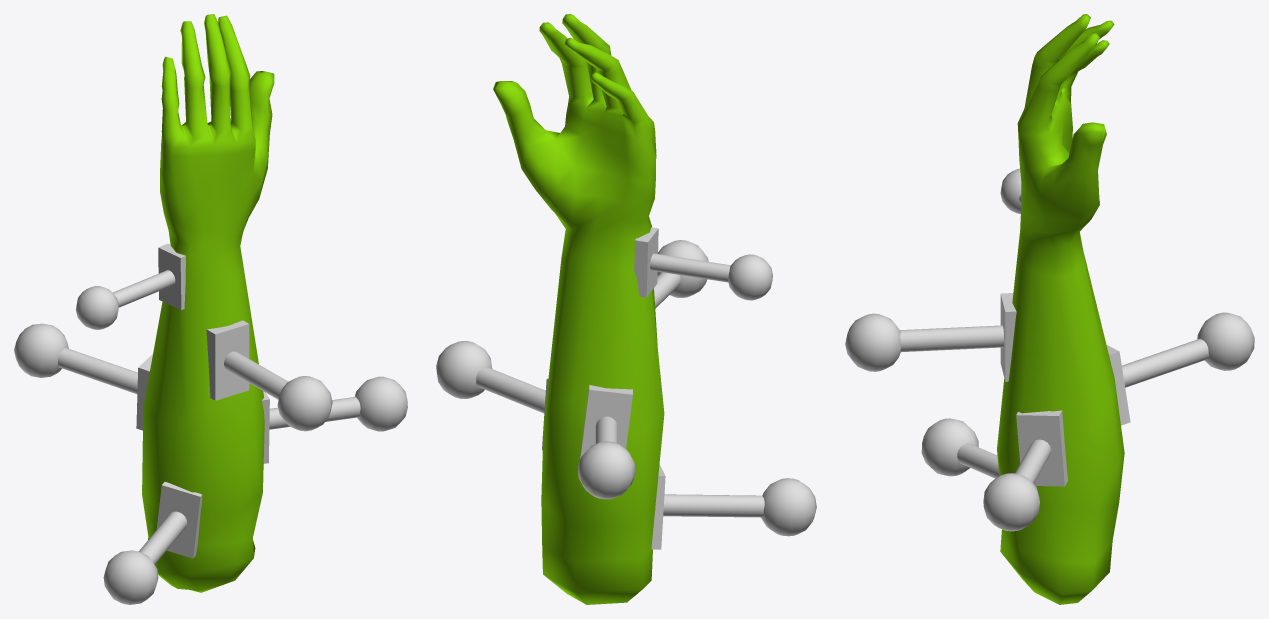
The model's file is LightningInfused.glb.
3 views of the same model, side by side, from view 1: azimuth 30°, elevation 25°; view 2: azimuth 150°, elevation 25°; view 3: azimuth 270°, elevation 25° (orthographic). The views are drawn at different scales.
Visible parts, largest first — view 1: Circle.001, Cube, Sphere, Sphere.001, Sphere.002, Sphere.003, Cube.001, Cylinder.003, Sphere.004, Cylinder, Cube.004, Cylinder.001 (+3 smaller); view 2: Circle.001, Sphere.003, Sphere.001, Sphere.002, Cylinder.001, Cube.003, Sphere.004, Cylinder.002, Cylinder.004, Cube.004, Sphere, Cube.001 (+2 smaller); view 3: Circle.001, Sphere.002, Sphere, Cube.002, Sphere.003, Cylinder, Sphere.001, Cylinder.003, Cube, Cylinder.001, Cylinder.002, Cube.003 (+1 smaller).
Boxes of the visible parts, x1=… form: Circle.001: x1=142, y1=14, x2=274, y2=592; Cube: x1=206, y1=320, x2=249, y2=400; Sphere: x1=277, y1=376, x2=332, y2=431; Sphere.001: x1=103, y1=550, x2=158, y2=604; Sphere.002: x1=355, y1=376, x2=407, y2=431; Sphere.003: x1=14, y1=323, x2=68, y2=377; Cube.001: x1=156, y1=482, x2=202, y2=558; Cylinder.003: x1=58, y1=348, x2=137, y2=393; Sphere.004: x1=76, y1=286, x2=118, y2=329; Cylinder: x1=224, y1=351, x2=288, y2=399; Cube.004: x1=158, y1=243, x2=185, y2=310; Cylinder.001: x1=139, y1=511, x2=187, y2=564; Circle.001: x1=493, y1=14, x2=664, y2=604; Sphere.003: x1=577, y1=441, x2=635, y2=499; Sphere.001: x1=761, y1=478, x2=816, y2=536; Sphere.002: x1=436, y1=341, x2=492, y2=398; Cylinder.001: x1=663, y1=494, x2=764, y2=517; Cube.003: x1=580, y1=385, x2=632, y2=459; Sphere.004: x1=728, y1=254, x2=772, y2=300; Cylinder.002: x1=476, y1=367, x2=545, y2=413; Cylinder.004: x1=650, y1=253, x2=730, y2=282; Cube.004: x1=634, y1=227, x2=658, y2=297; Sphere: x1=657, y1=240, x2=708, y2=297; Cube.001: x1=651, y1=464, x2=665, y2=549; Circle.001: x1=997, y1=14, x2=1124, y2=604; Sphere.002: x1=983, y1=473, x2=1039, y2=531; Sphere: x1=845, y1=313, x2=901, y2=371; Cube.002: x1=1016, y1=410, x2=1067, y2=486; Sphere.003: x1=1197, y1=312, x2=1254, y2=370; Cylinder: x1=900, y1=325, x2=1004, y2=352; Sphere.001: x1=921, y1=418, x2=978, y2=476; Cylinder.003: x1=1122, y1=338, x2=1209, y2=387; Cube: x1=1000, y1=293, x2=1016, y2=381; Cylinder.001: x1=957, y1=443, x2=999, y2=478; Cylinder.002: x1=1015, y1=439, x2=1050, y2=483; Cube.003: x1=1106, y1=344, x2=1130, y2=425.
Bounding box in the file's own units: 0.6461 × 1.06 × 0.6676.
